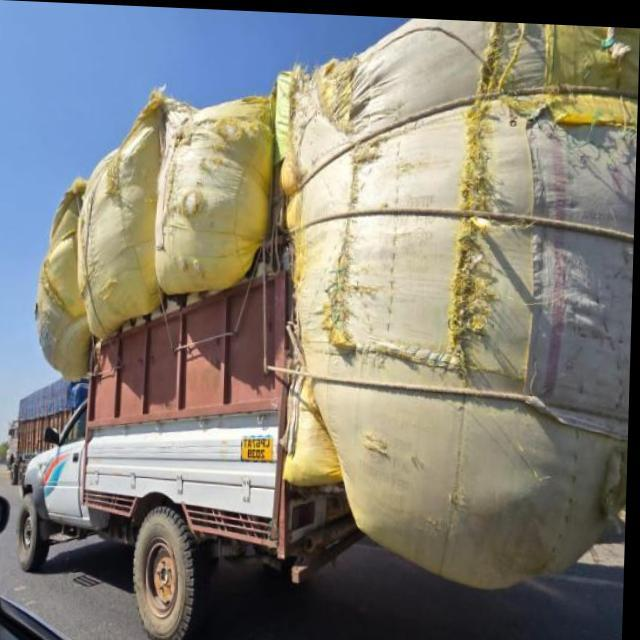uncovered: (47, 2, 640, 640)
